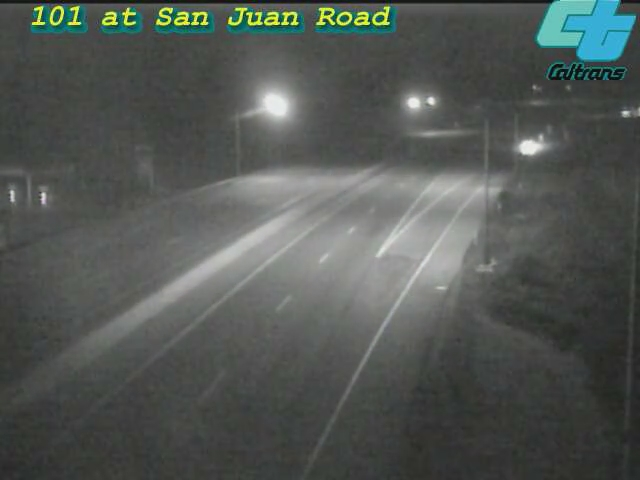vehicle: (504, 123, 554, 173), (603, 88, 640, 138)
